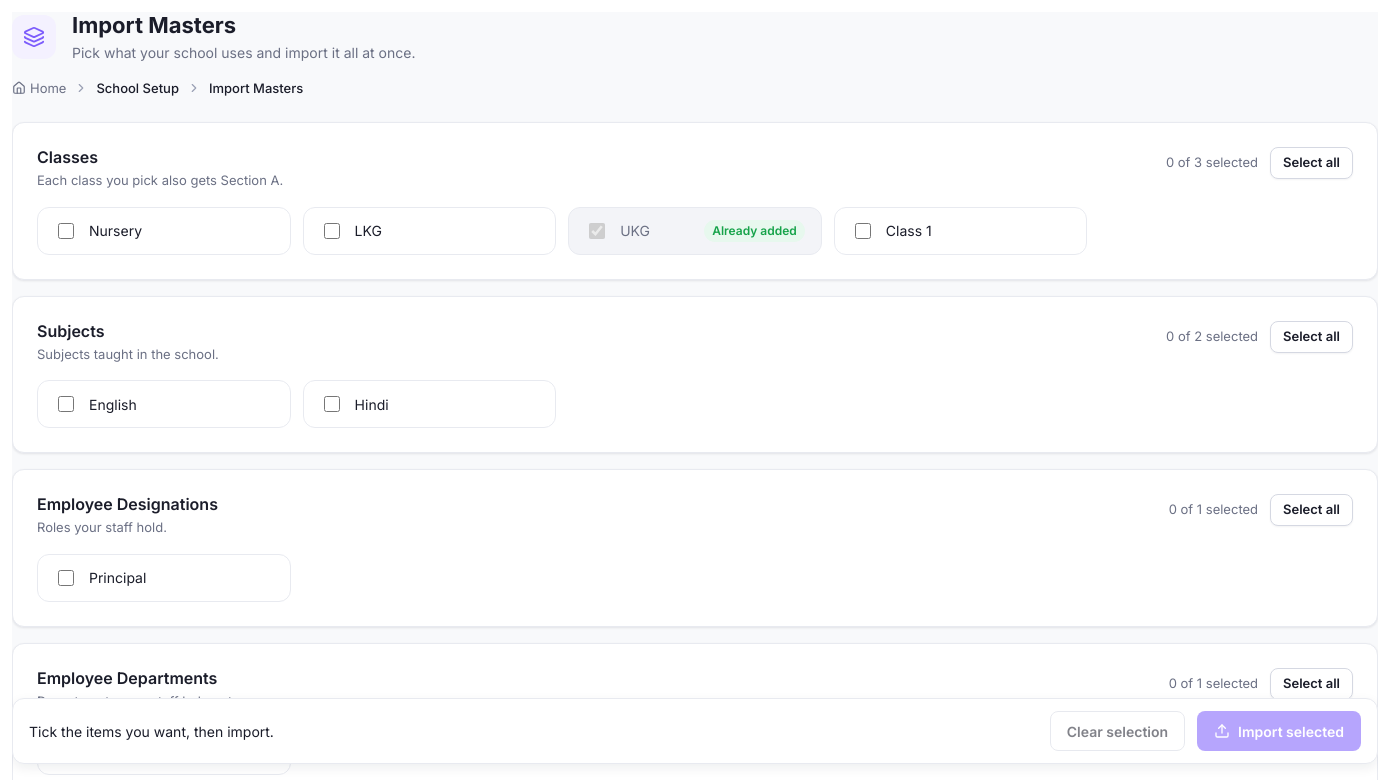
Test case: ImportMastersComponent › cannot import until something is ticked
Expected: the button "Import selected" is disabled, [1197,711,1361,751]
Click the checkbox labelled "LKG": (332, 230) [324,222,340,238]
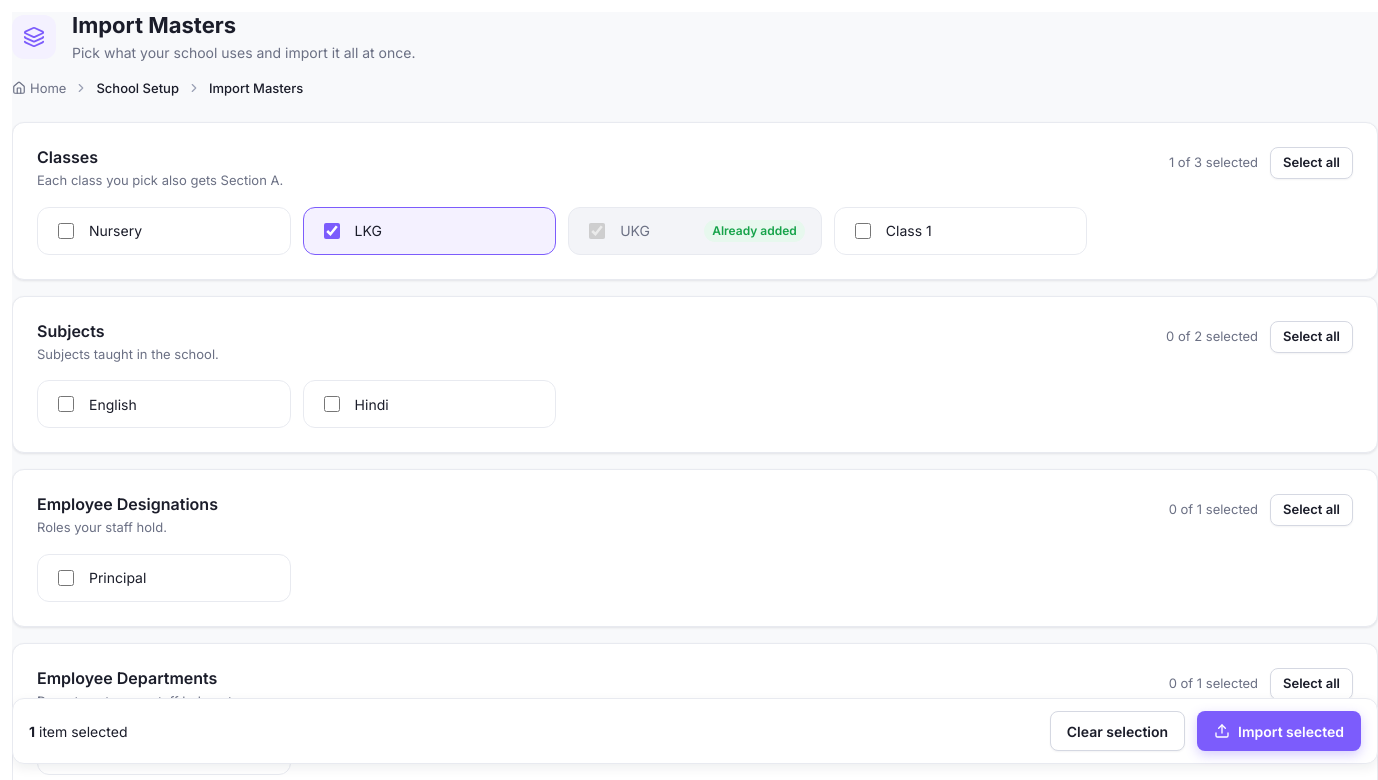
Expected: the button "Import selected" is enabled, [1197,711,1361,751]
